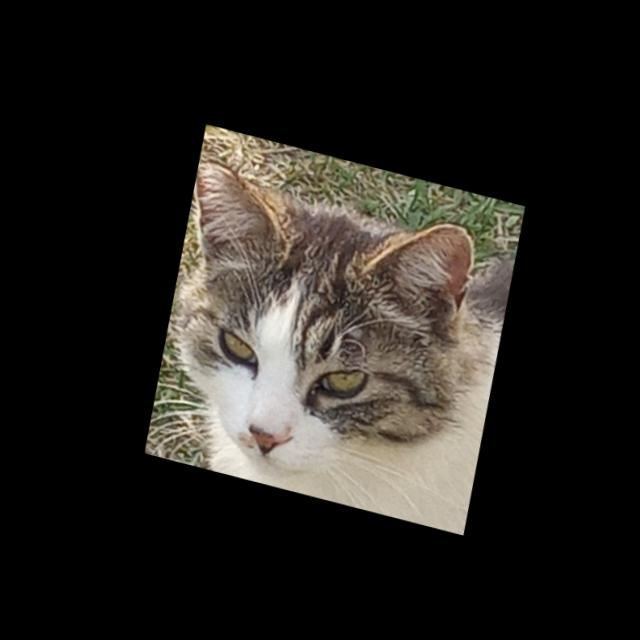animals: (132, 149, 498, 514)
